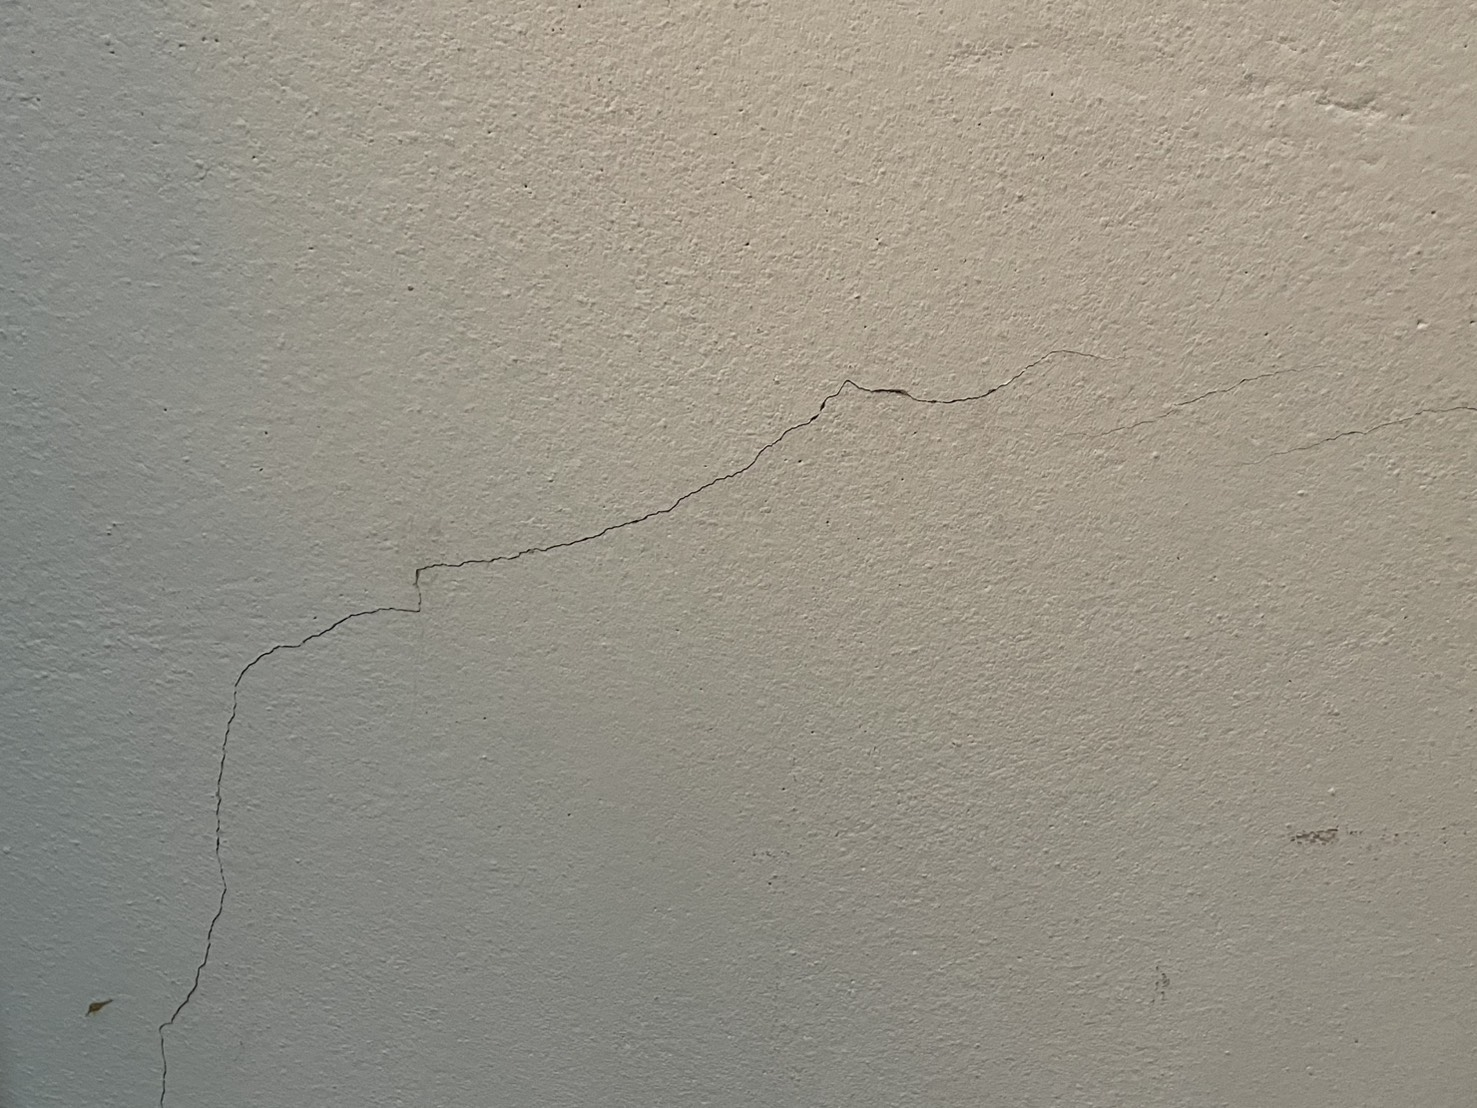Low: (136, 331, 1155, 1105)
